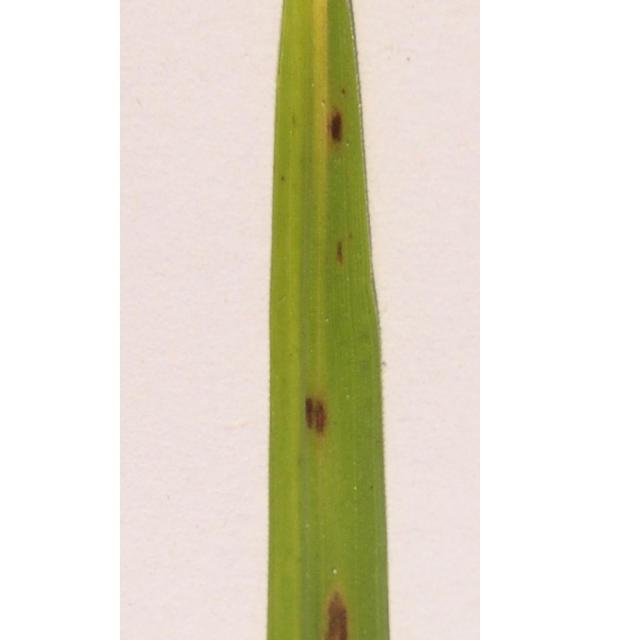Brown spot: (294, 387, 344, 445), (314, 583, 364, 640), (318, 98, 352, 156), (325, 221, 364, 271)
